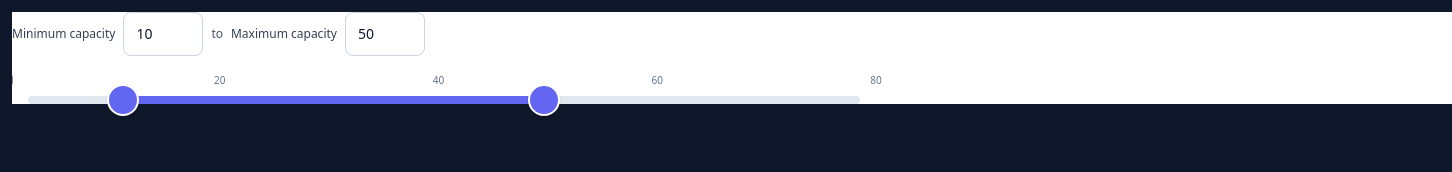
CapacityRange › clamps invalid or empty min input to MIN_CAPACITY
The image size is (1452, 172).
Replace the text in the number field labelled "Minimum capacity" with "abc" at (163, 34), box [123,12,203,56]
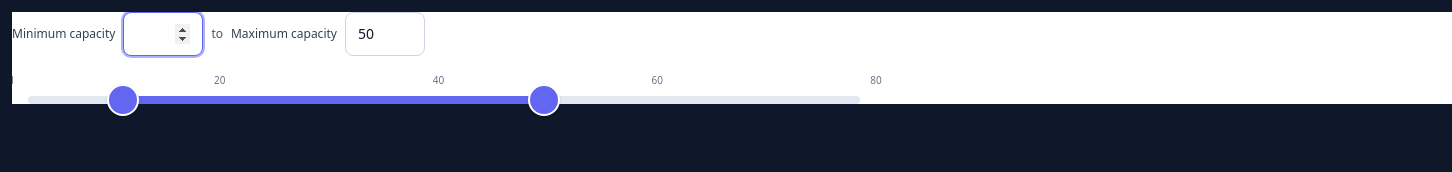
Press Tab
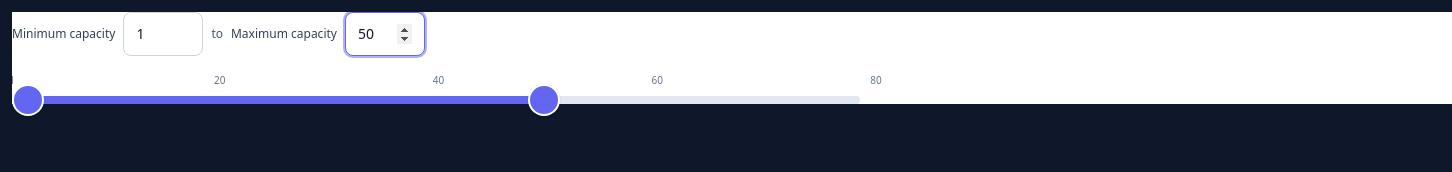
Expected: the number field labelled "Minimum capacity" holds "1", [123,12,203,56]
